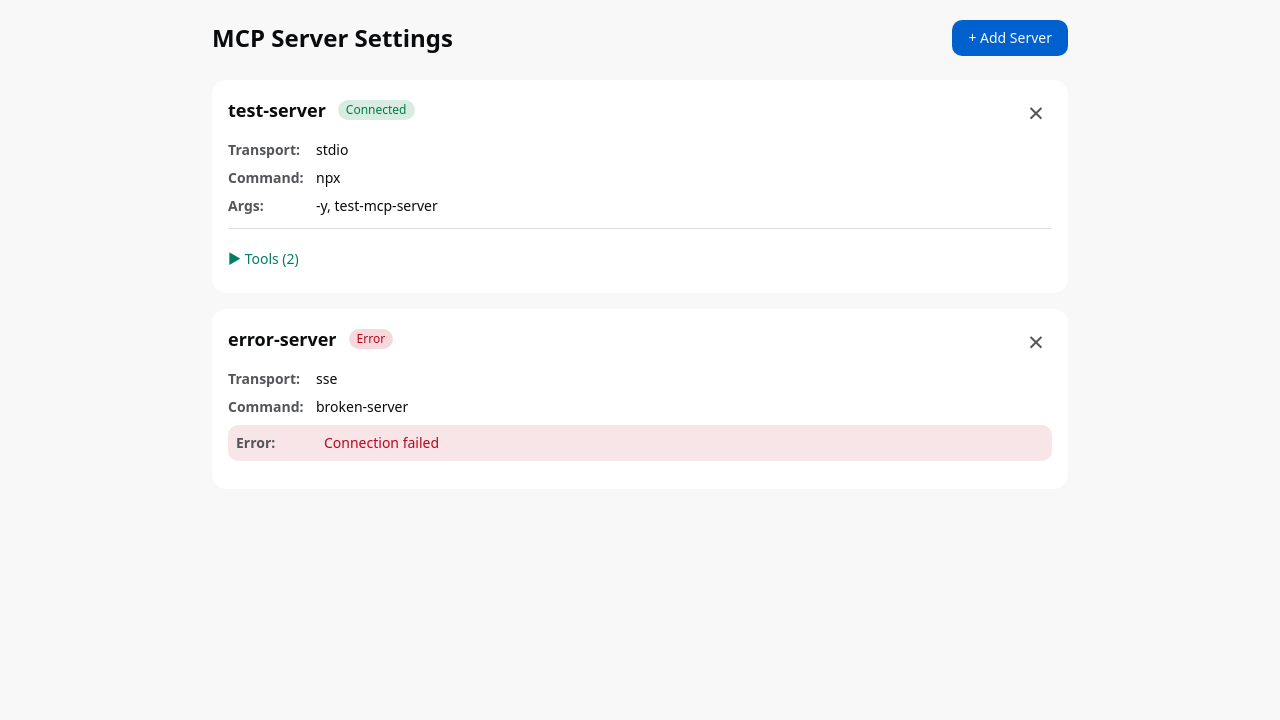
Scenario: MCPSettings › adding servers › should show error toast when adding server fails
The image size is (1280, 720).
Click the button "+ Add Server".
click(1010, 38)  # box [952,20,1068,56]
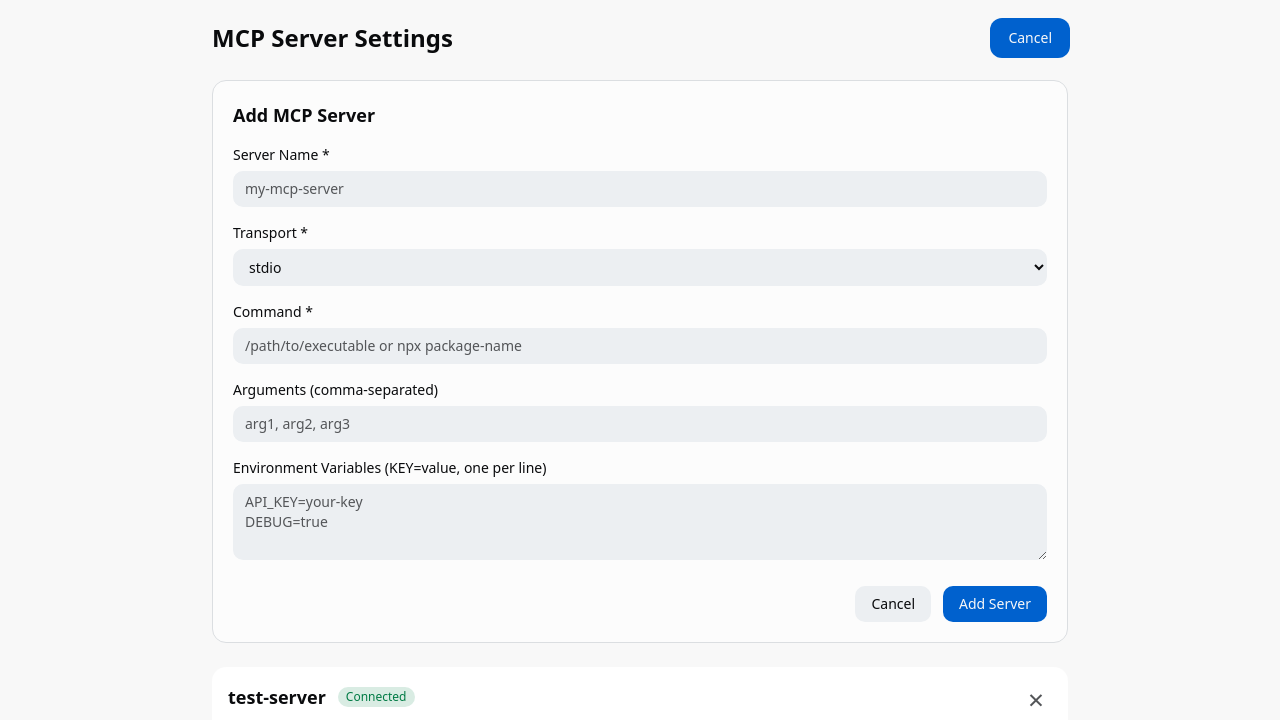
Type "test" into the field labelled "Server Name *".
click(640, 189); type("test")  # box [233,171,1047,207]
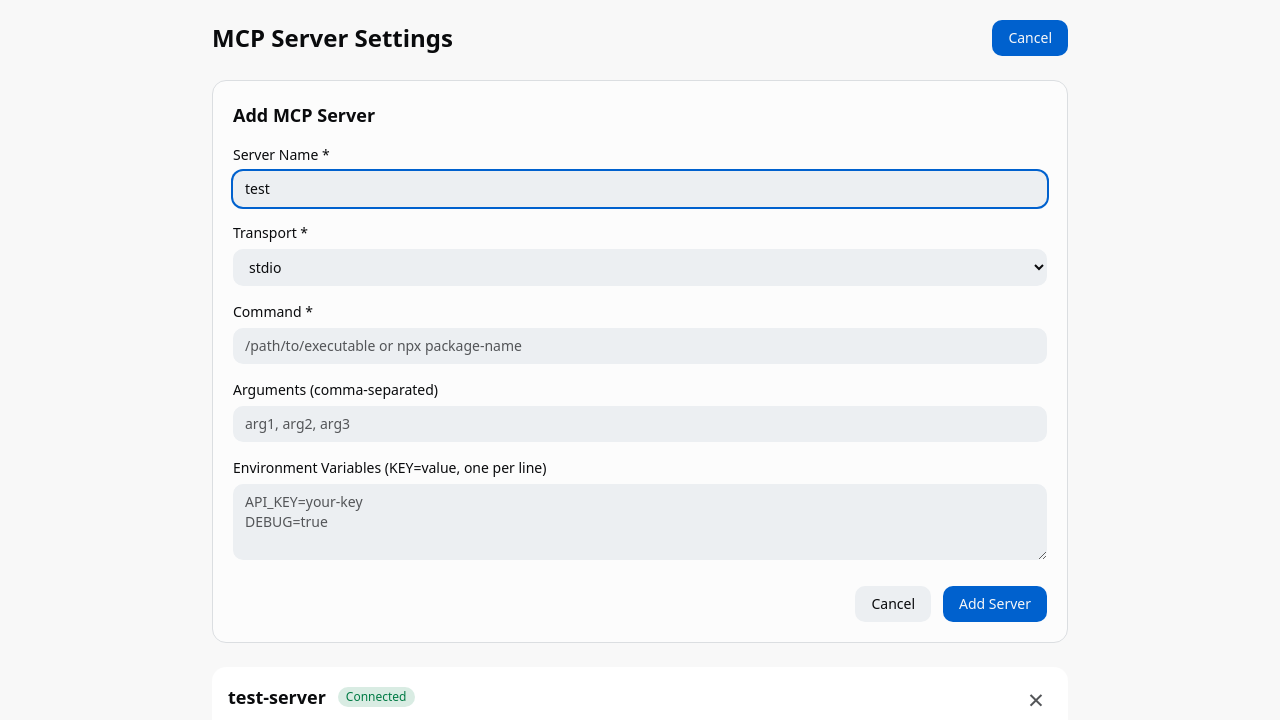
Type "cmd" into the field labelled "Command *".
click(640, 346); type("cmd")  # box [233,328,1047,364]
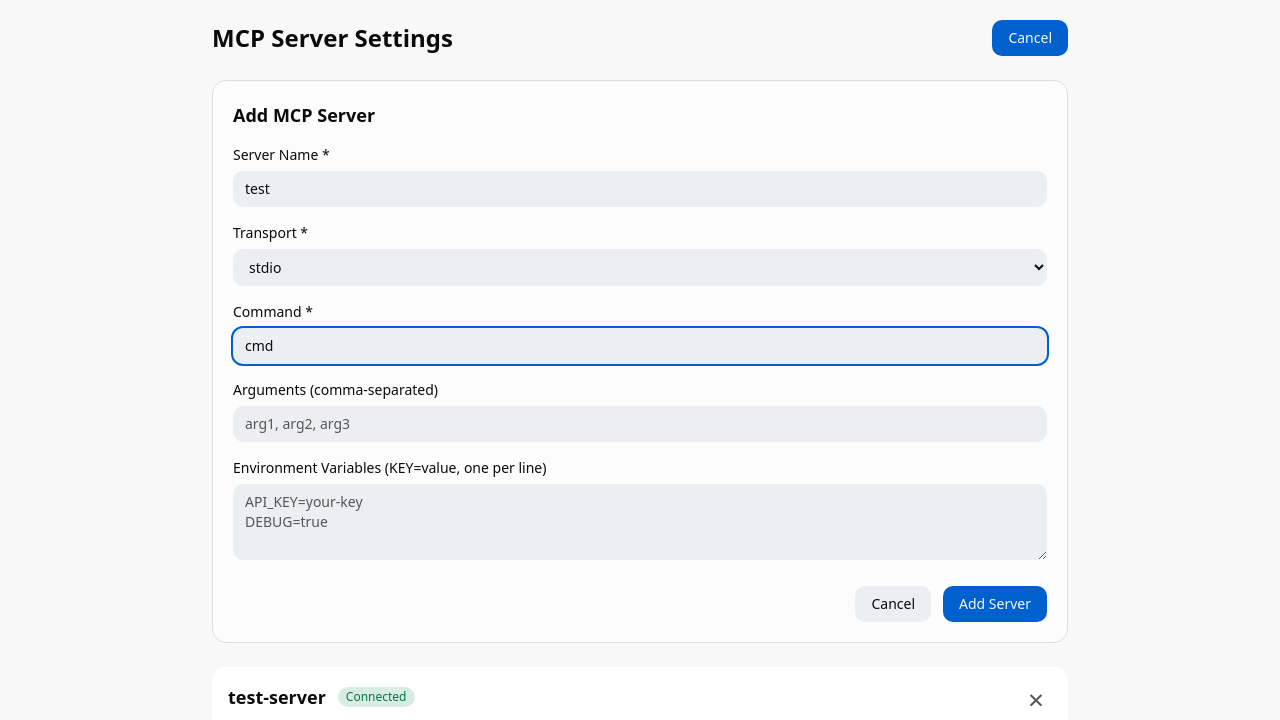
Click the button "Add Server".
click(995, 604)  # box [943,586,1047,622]
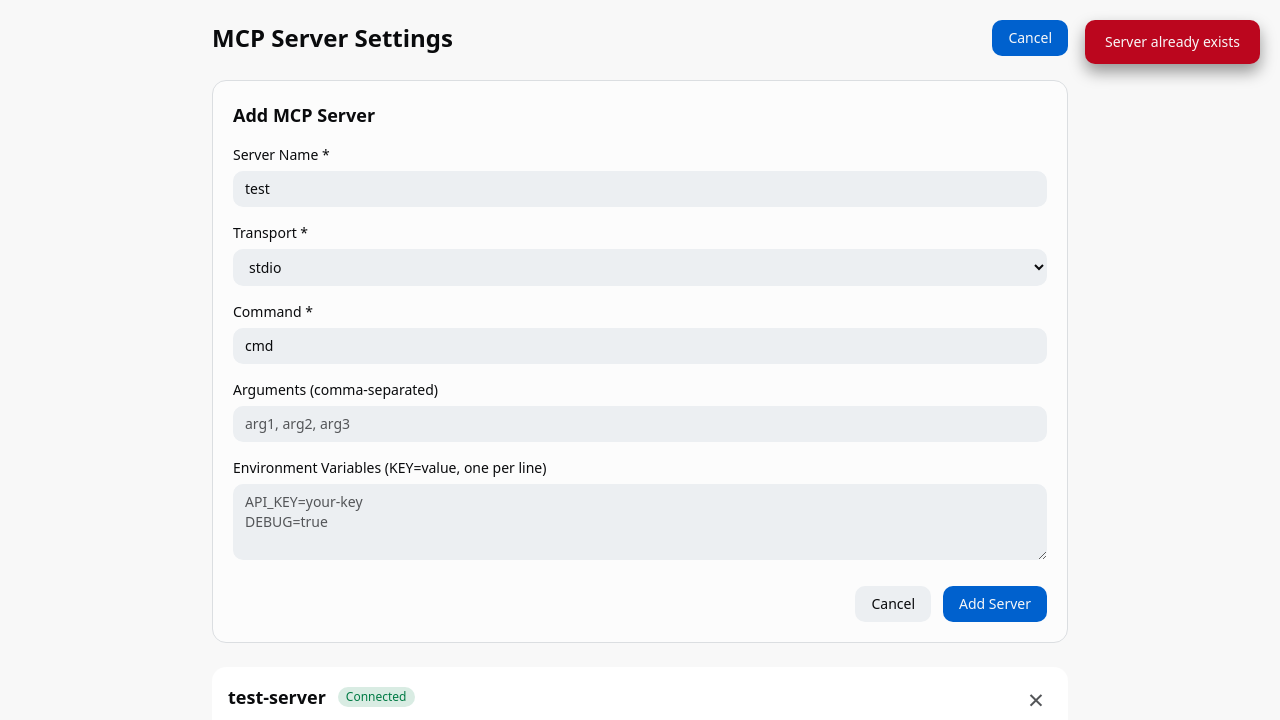
Result: the text "Server already exists" is shown at [1085,20,1260,64]
